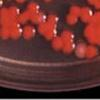red: (0, 4, 23, 42), (82, 25, 100, 47), (73, 39, 88, 61), (78, 5, 95, 24), (84, 43, 100, 62), (85, 11, 100, 31), (20, 24, 36, 42), (21, 1, 41, 15), (29, 12, 47, 26), (60, 40, 75, 56), (44, 14, 60, 28), (50, 36, 64, 52), (43, 27, 58, 41), (65, 13, 79, 26), (16, 12, 30, 25), (37, 23, 50, 37), (61, 28, 74, 42), (67, 5, 81, 17), (83, 0, 100, 6), (92, 2, 100, 11), (41, 0, 55, 4), (14, 0, 28, 4), (0, 0, 6, 7)
